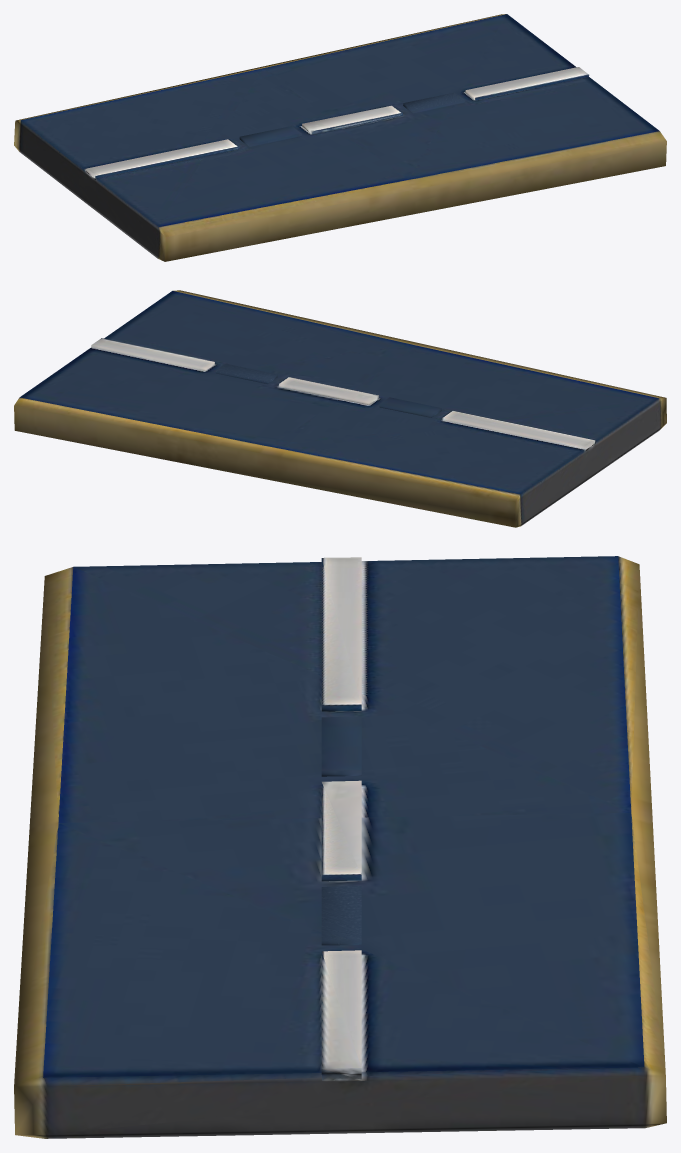
3 views of the same model, one above another, from view 1: azimuth 30°, elevation 25°; view 2: azimuth 150°, elevation 25°; view 3: azimuth 270°, elevation 25° (orthographic). The views are drawn at different scales.
Size of the model in its own units: 0.9995 by 0.1548 by 0.5806.
1 material, 1 textured.
